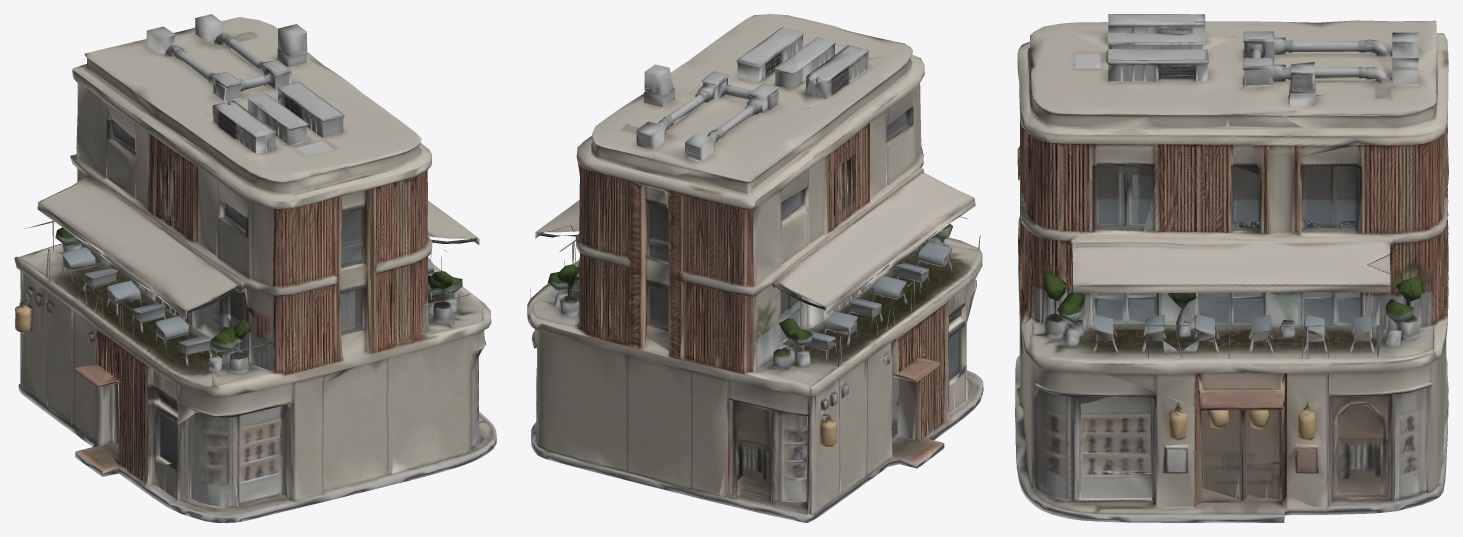
File: fanverse_tripo_raw_hd.glb
The picture shows the model from 3 angles, left to right: view 1: azimuth 30°, elevation 25°; view 2: azimuth 150°, elevation 25°; view 3: azimuth 270°, elevation 25°; orthographic projection. The views are drawn at different scales.
Visible parts, largest first — view 1: tripo_node_1f01ef87-88bb-4741-97a0-23cae203acaa; view 2: tripo_node_1f01ef87-88bb-4741-97a0-23cae203acaa; view 3: tripo_node_1f01ef87-88bb-4741-97a0-23cae203acaa.
Boxes of the visible parts, box(x1,y1,x2,y2) form: tripo_node_1f01ef87-88bb-4741-97a0-23cae203acaa: box(14, 14, 496, 522); tripo_node_1f01ef87-88bb-4741-97a0-23cae203acaa: box(527, 14, 983, 522); tripo_node_1f01ef87-88bb-4741-97a0-23cae203acaa: box(1015, 14, 1448, 522).
Size of the model in its own units: 0.9779 by 0.9593 by 0.9563.
Materials: 1 (1 with a texture image).
